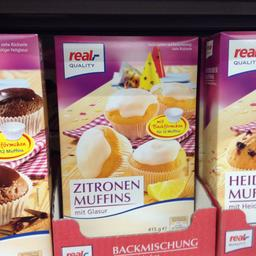cake: (52, 33, 198, 232)
